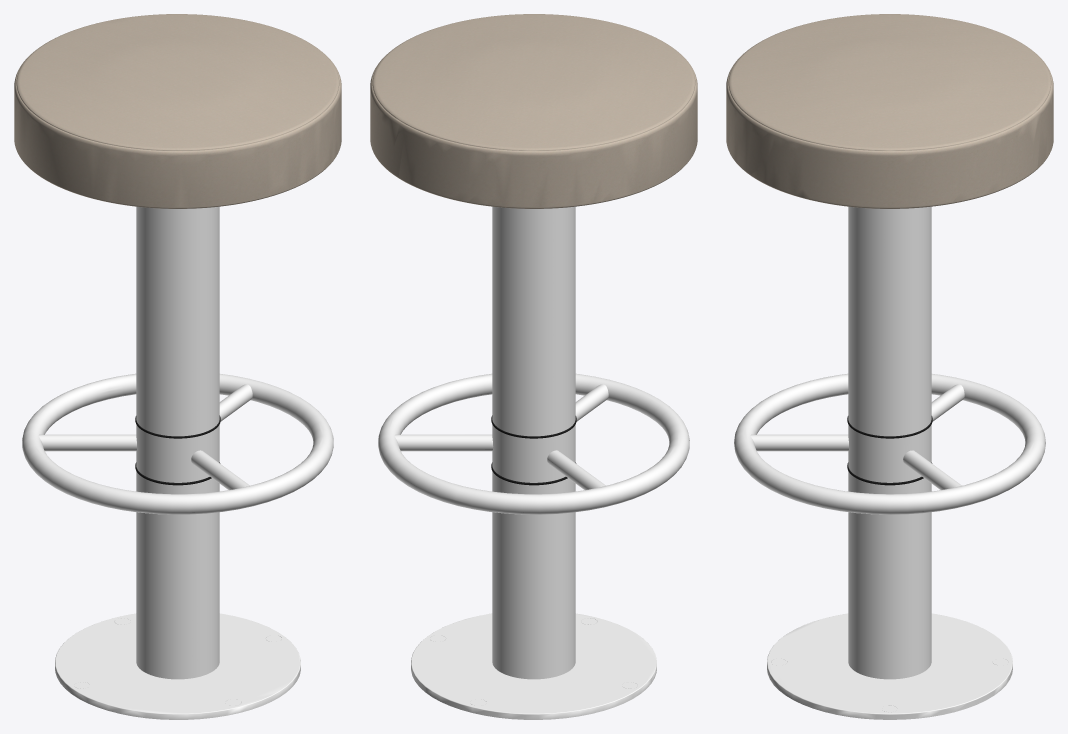
File: c114-teknofibra-03.glb
The picture shows the model from 3 angles, left to right: view 1: azimuth 30°, elevation 25°; view 2: azimuth 150°, elevation 25°; view 3: azimuth 270°, elevation 25°; orthographic projection.
Parts seen in each view (by area): view 1: c114-base-piastra, c114-seduta-acciaio, c114-tubo-boccola-alta; view 2: c114-base-piastra, c114-seduta-acciaio, c114-tubo-boccola-alta; view 3: c114-base-piastra, c114-seduta-acciaio, c114-tubo-boccola-alta.
Part boxes in pixels (x1,y1,x2,y2): c114-base-piastra: (22, 206, 333, 719); c114-seduta-acciaio: (14, 14, 341, 208); c114-tubo-boccola-alta: (135, 415, 220, 485); c114-base-piastra: (378, 206, 689, 719); c114-seduta-acciaio: (370, 14, 697, 208); c114-tubo-boccola-alta: (491, 415, 576, 485); c114-base-piastra: (734, 206, 1045, 719); c114-seduta-acciaio: (726, 14, 1053, 208); c114-tubo-boccola-alta: (847, 416, 932, 485).
Bounding box in the file's own units: 0.3991 × 0.8009 × 0.3991.
4 materials, 1 textured.
